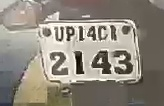1: (71, 47, 87, 77), (77, 25, 86, 43)
2: (47, 50, 69, 76)
3: (112, 47, 134, 78)
4: (91, 49, 113, 77), (88, 25, 97, 44)
C: (98, 25, 107, 43)
P: (64, 25, 73, 43)
R: (109, 23, 119, 42)
U: (52, 25, 64, 43)
